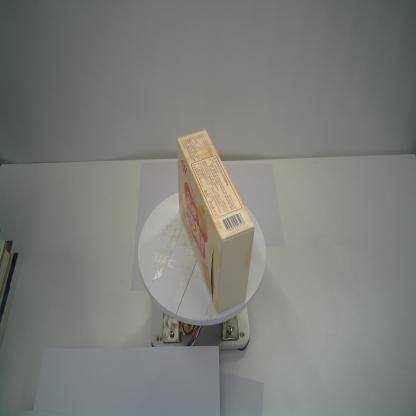Dessert: (177, 129, 254, 314)
